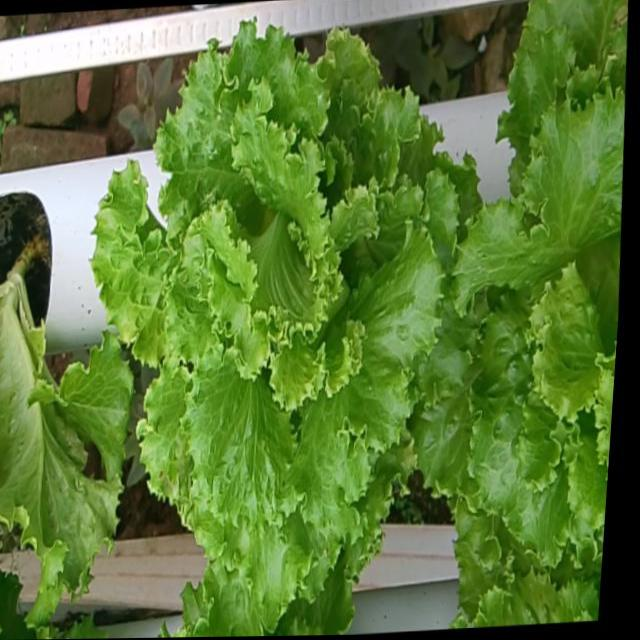Mature: (93, 5, 463, 595), (418, 68, 626, 557)
